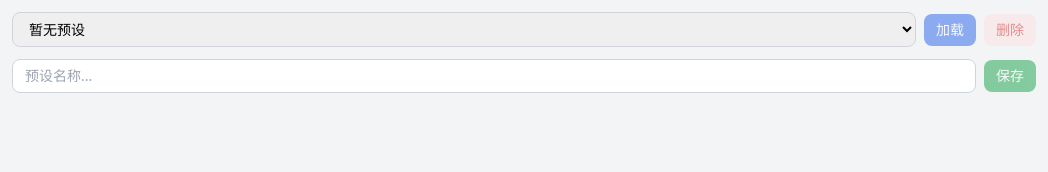
Test case: ConstraintPresetSelector › 加载预设 › 有球员被过滤时显示警告提示
Step 1. Select "含离队球员" in the dropdown → x=464, y=30, box [12, 12, 916, 47]
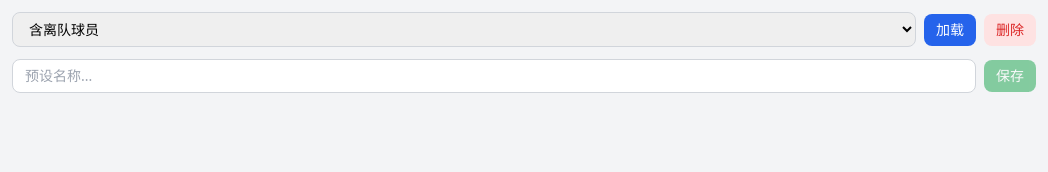
Step 2. Click the button "加载" → x=950, y=30, box [924, 14, 976, 46]
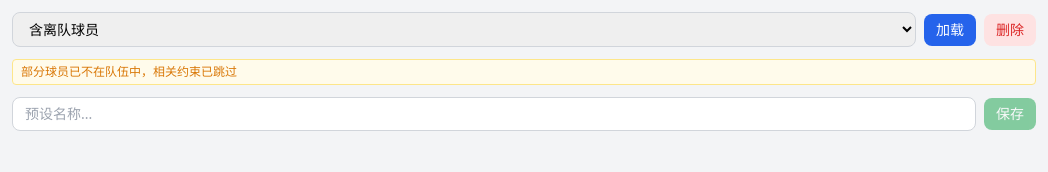
Expected: the text "部分球员已不在队伍中" is shown, [21, 63, 237, 80]
